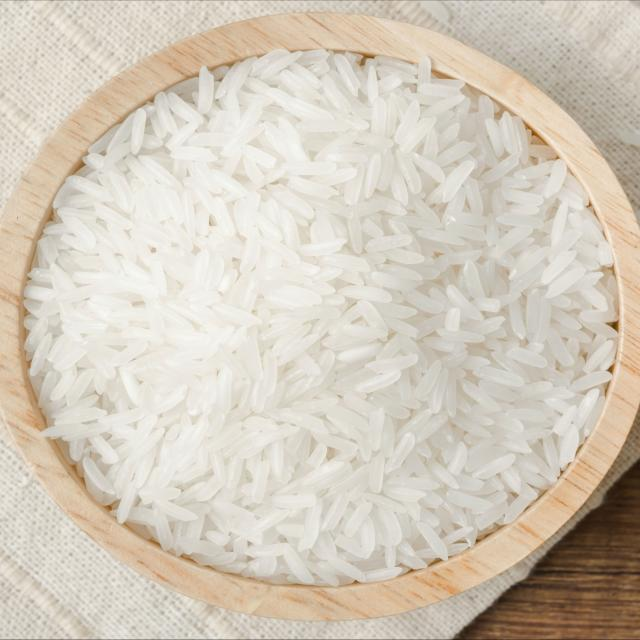rice: (19, 42, 624, 596)
